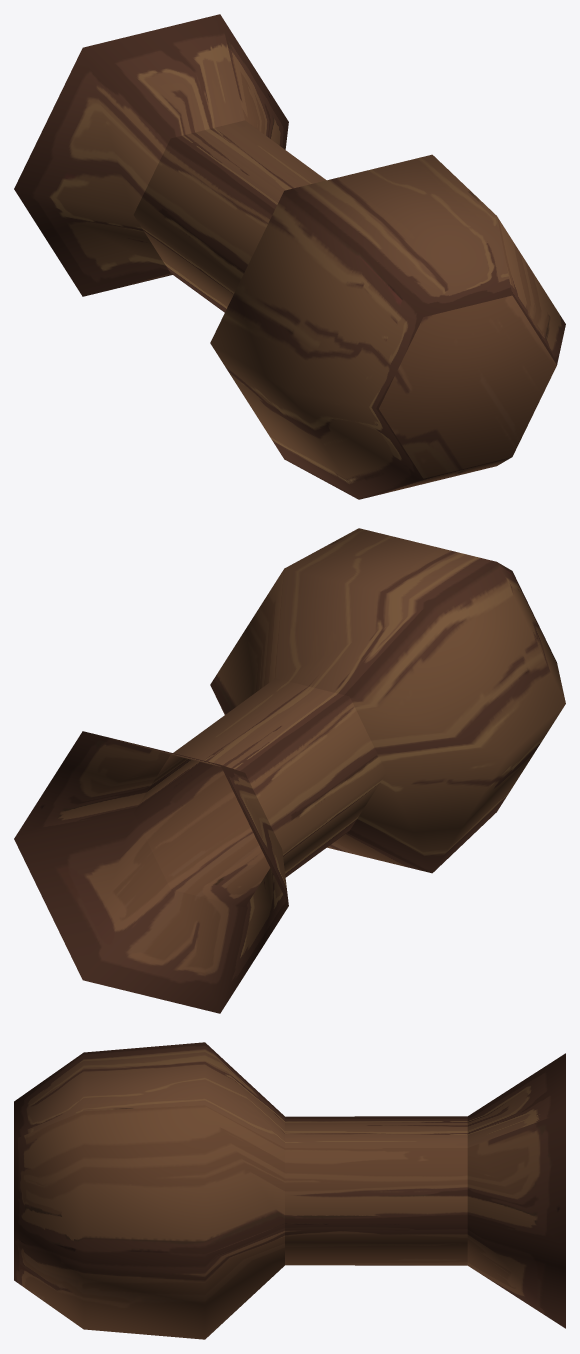
File: SM_PROP_hook_interior_02.fbx
3 views of the same model, one above another, from view 1: azimuth 30°, elevation 25°; view 2: azimuth 150°, elevation 25°; view 3: azimuth 270°, elevation 25° (orthographic). The views are drawn at different scales.
Parts seen in each view (by area): view 1: SM_PROP_hook_interior_02; view 2: SM_PROP_hook_interior_02; view 3: SM_PROP_hook_interior_02.
Part boxes in pixels (x1,y1,x2,y2): SM_PROP_hook_interior_02: [14, 14, 565, 499]; SM_PROP_hook_interior_02: [14, 528, 565, 1013]; SM_PROP_hook_interior_02: [14, 1042, 565, 1339].
Size of the model in its own units: 9.33 by 8.08 by 17.24.
